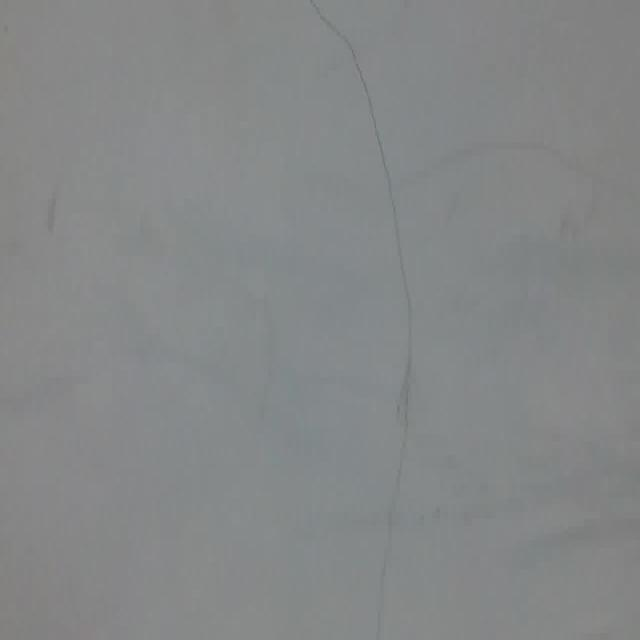Crack: (289, 0, 499, 640)
